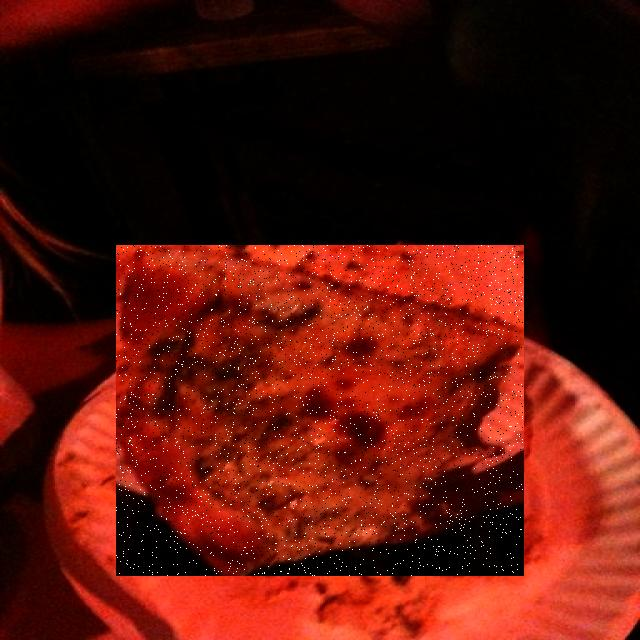Pizza: (117, 245, 523, 576)
